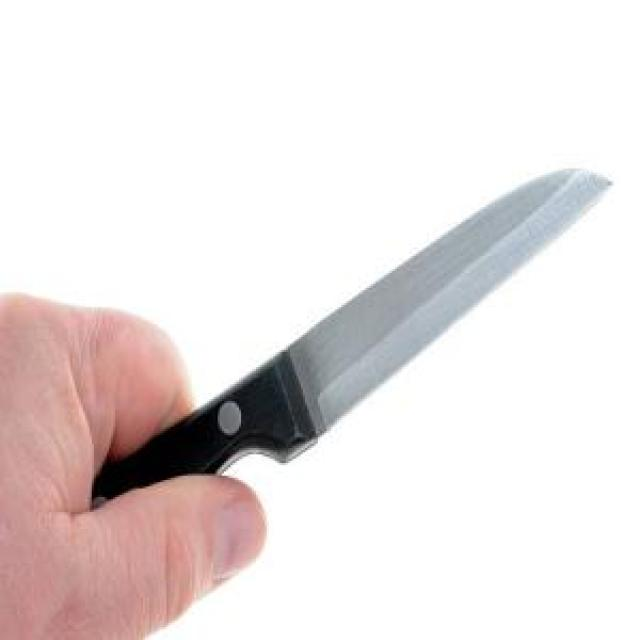knife: (90, 168, 614, 518)
